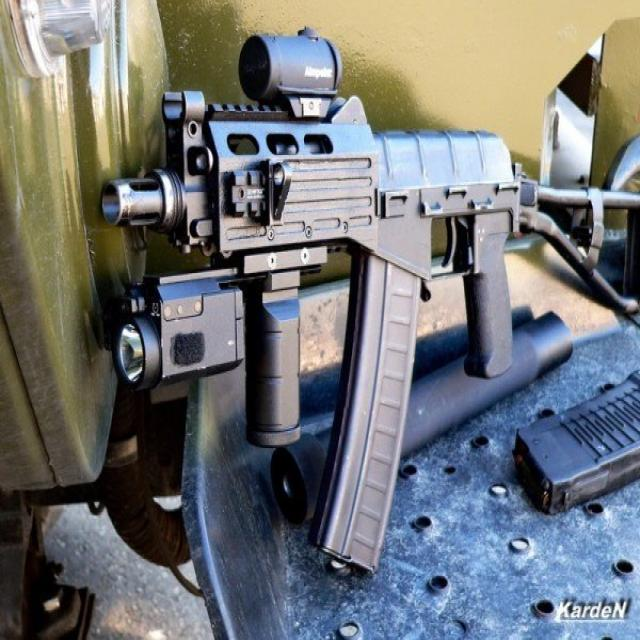firearm: (101, 22, 640, 581)
